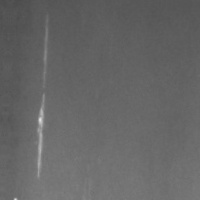scratches: (30, 10, 55, 182), (10, 194, 20, 199)
